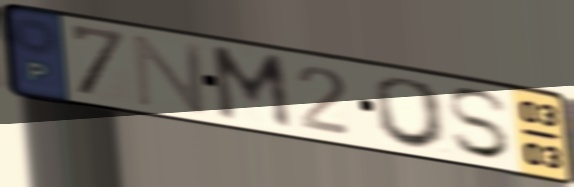2: (294, 64, 351, 138)
7: (69, 21, 131, 100)
M: (207, 43, 297, 135)
N: (129, 31, 211, 116)
O: (371, 74, 452, 153)
S: (443, 85, 515, 162)
